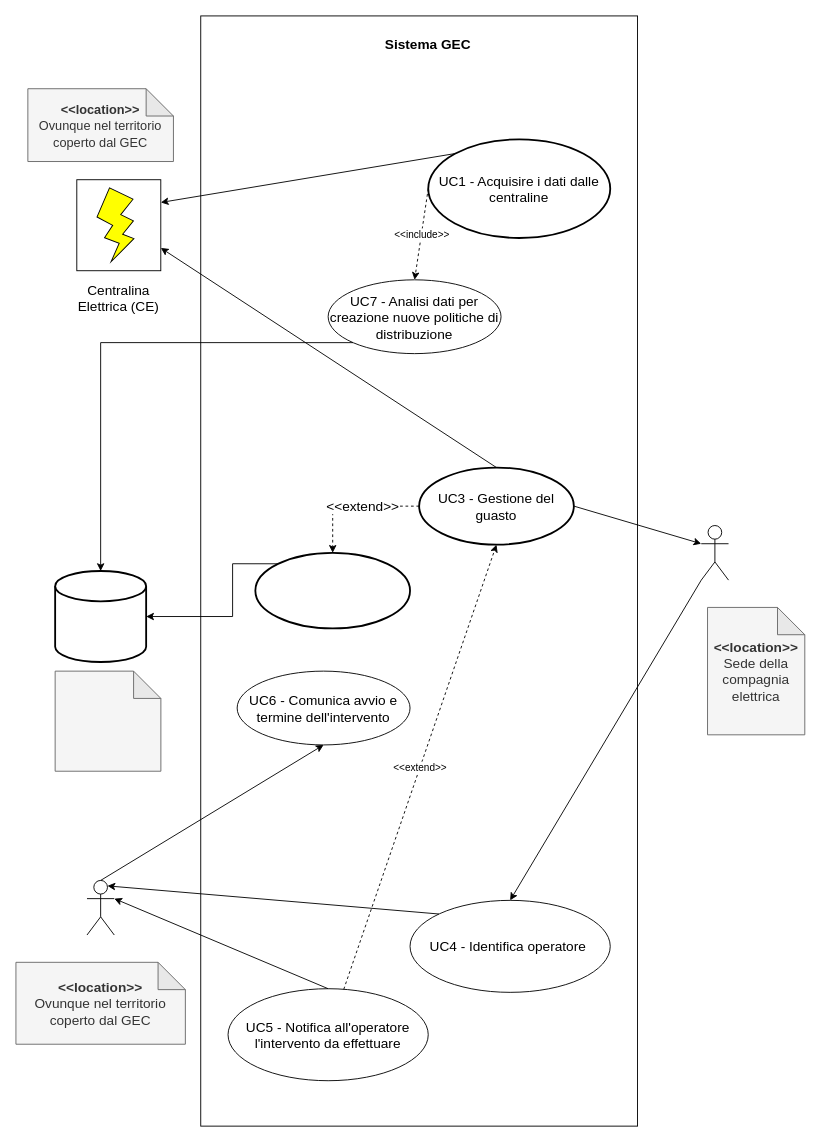
This 821x1142 diagram has some shape labels left out. Each missing label, with the centre of its shape:
"<<location>> Cloud" belongs at point 107,720.
"BDCE" belongs at point 100,616.
"Operatore" belongs at point 100,907.
"Servizio tecnico centrale" belongs at point 714,552.
"UC2 - Rilevazione anomalie nelle letture" belongs at point 332,590.
